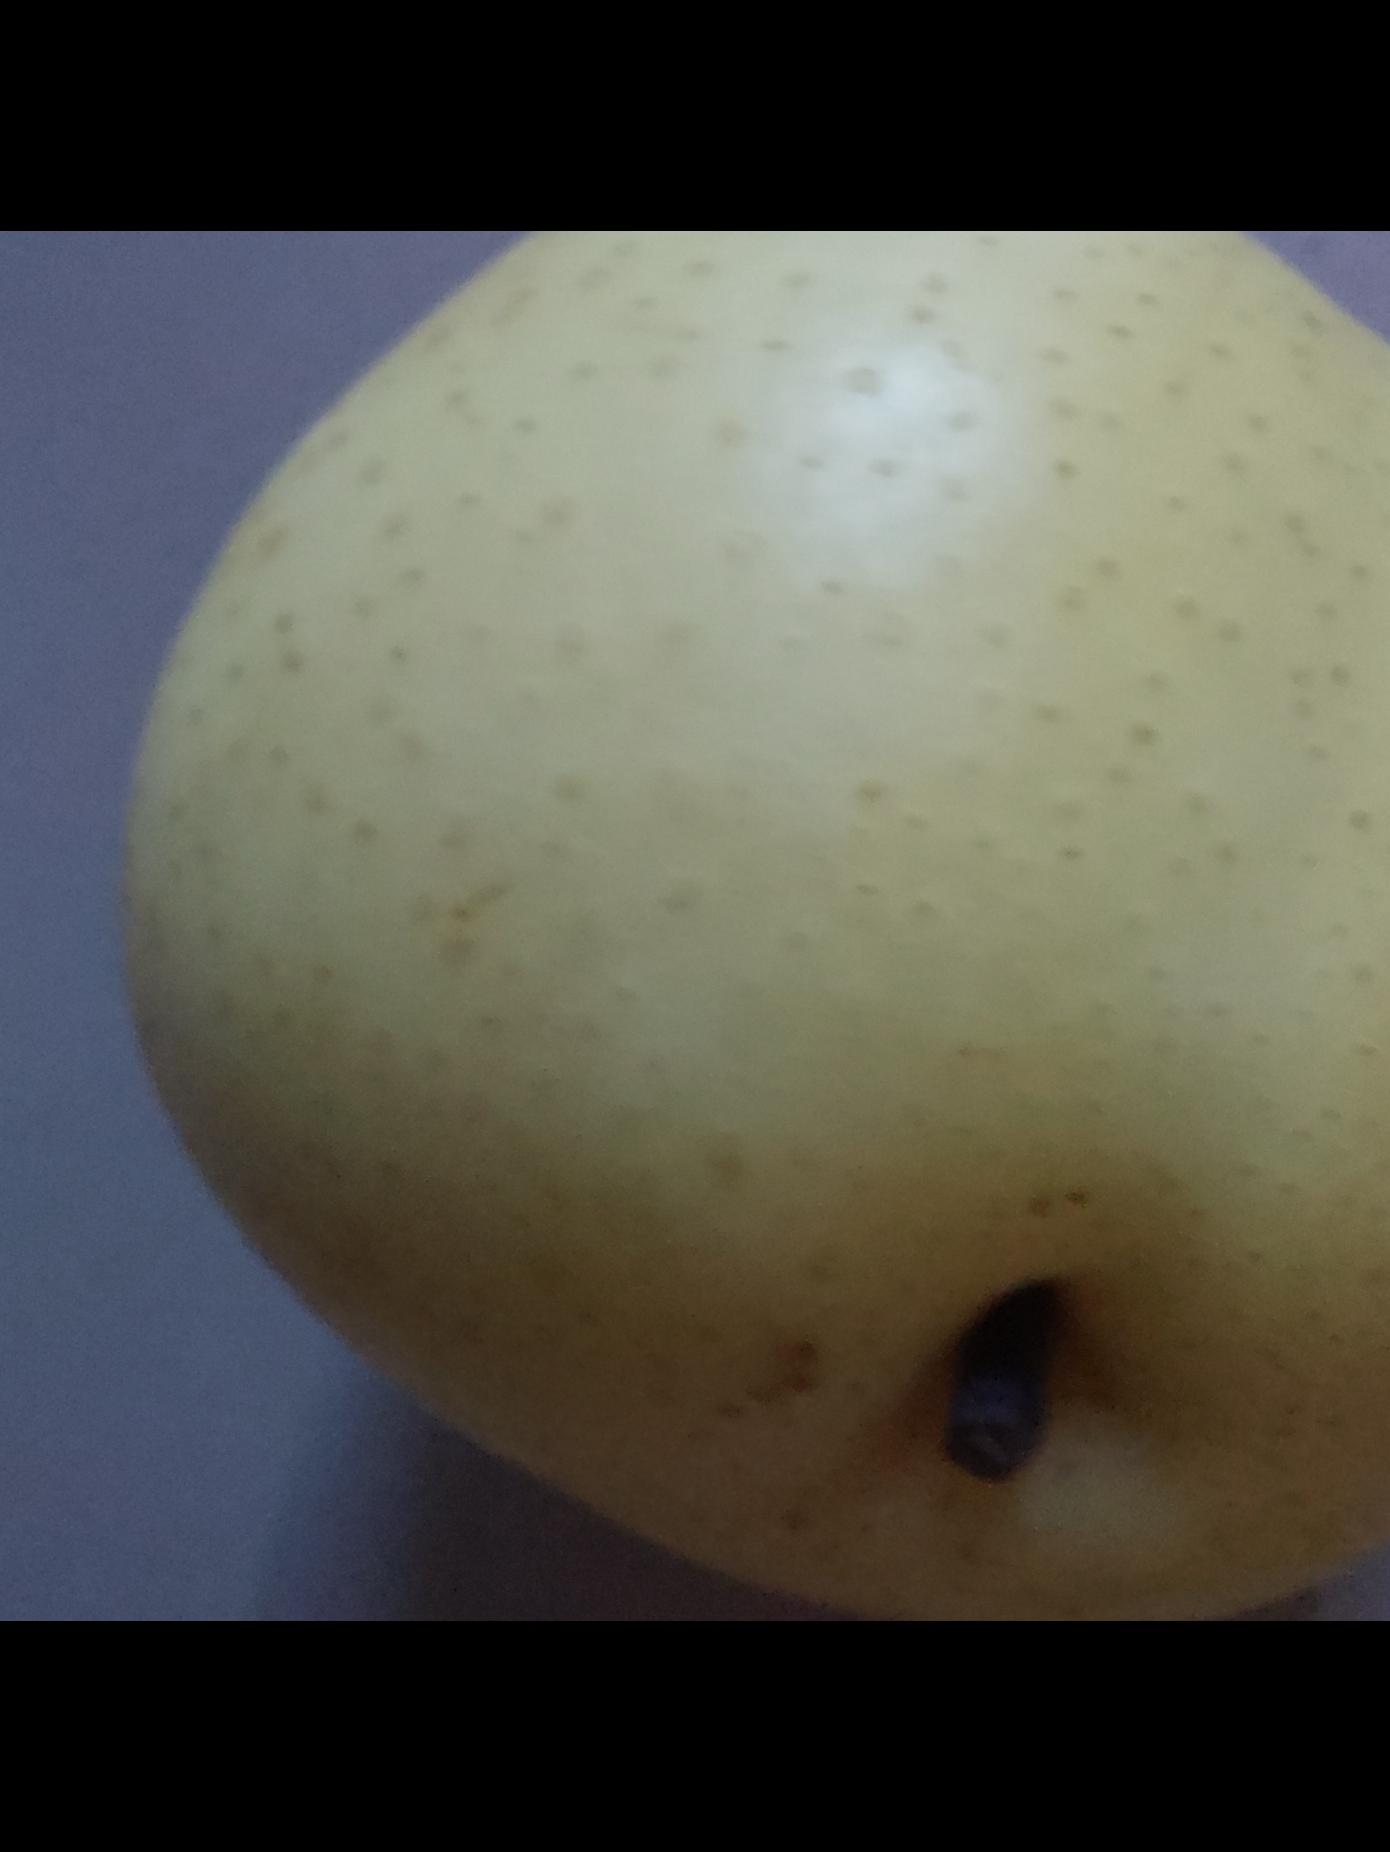Good Pear: (39, 231, 1390, 1621)
